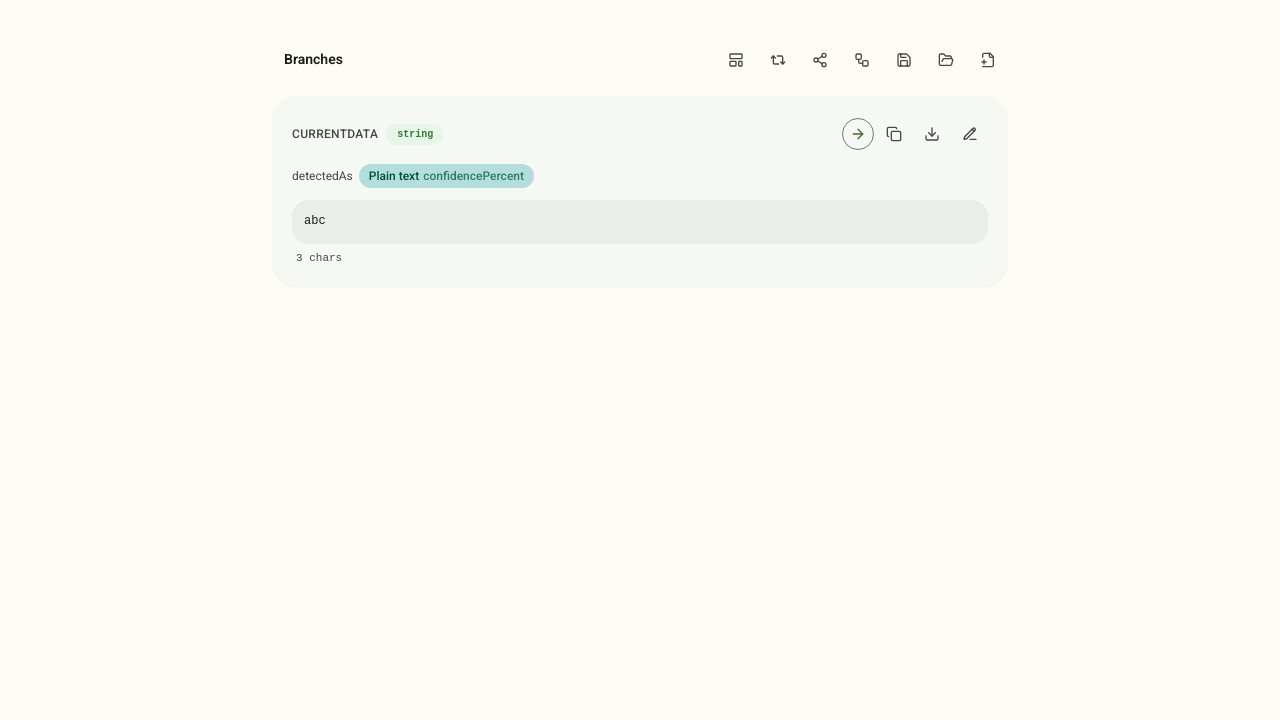
Scenario: applying a journey to new data › lets the input be edited from the root card, prefilled with the current input
Step 1. Click the button named "editInput" → [970, 134], box [952,116,988,152]
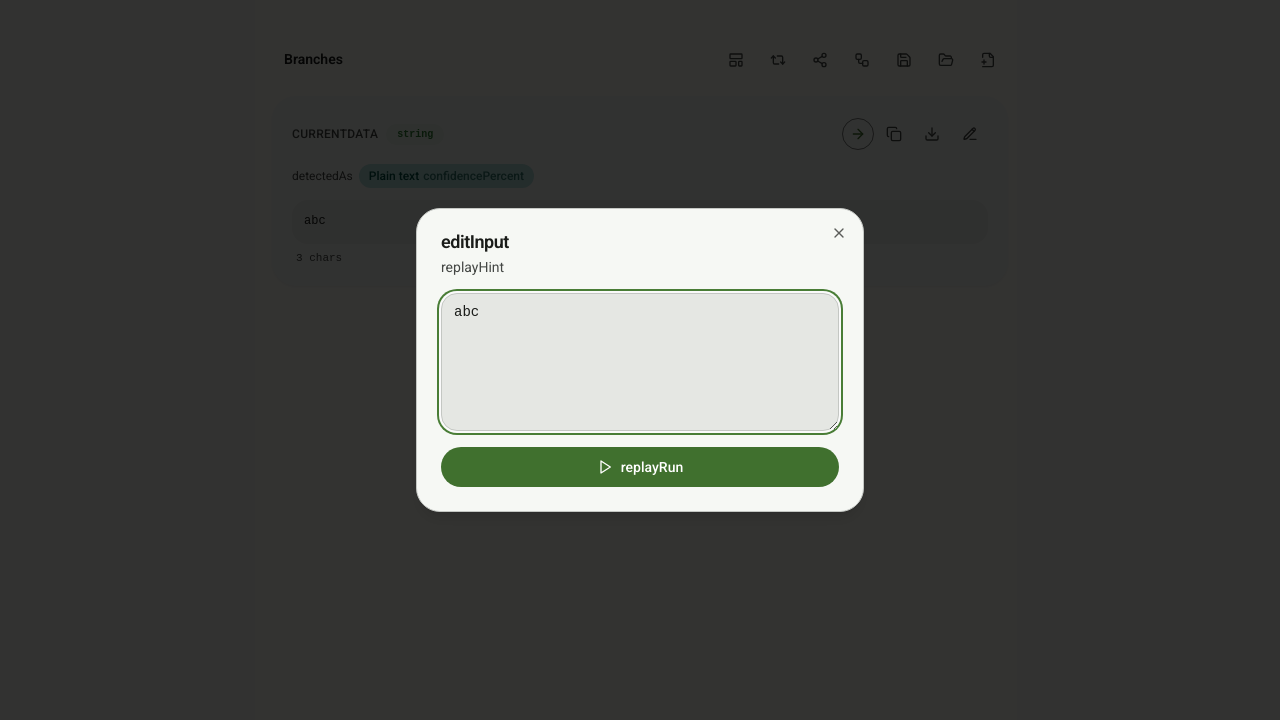
Expected: the text box named "editInput" holds "abc", [441,293,839,431]
